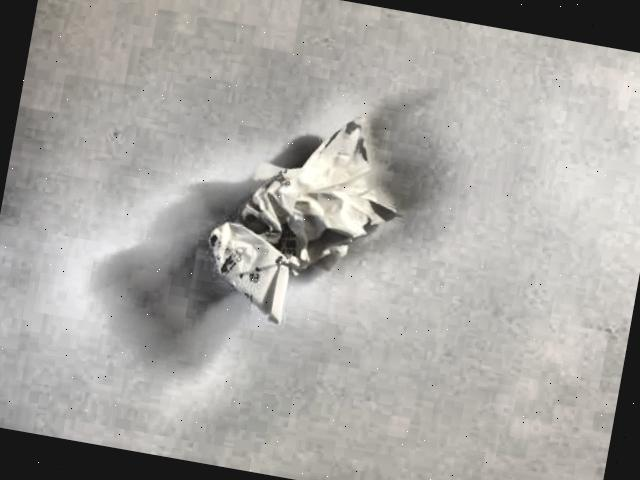Paper: (188, 90, 414, 352)
